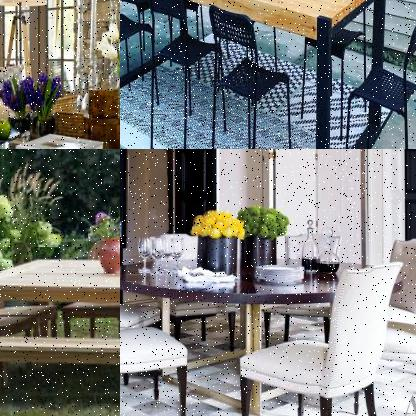table: (120, 256, 407, 415), (120, 0, 389, 148), (0, 252, 119, 401), (0, 75, 119, 148)
